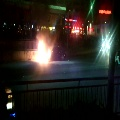fire: (31, 39, 51, 64)
